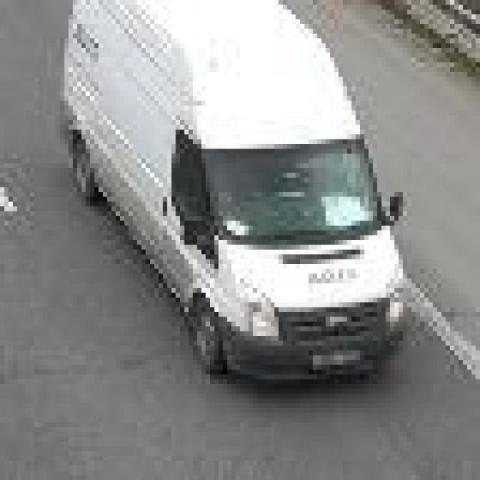van: (60, 0, 407, 374)
